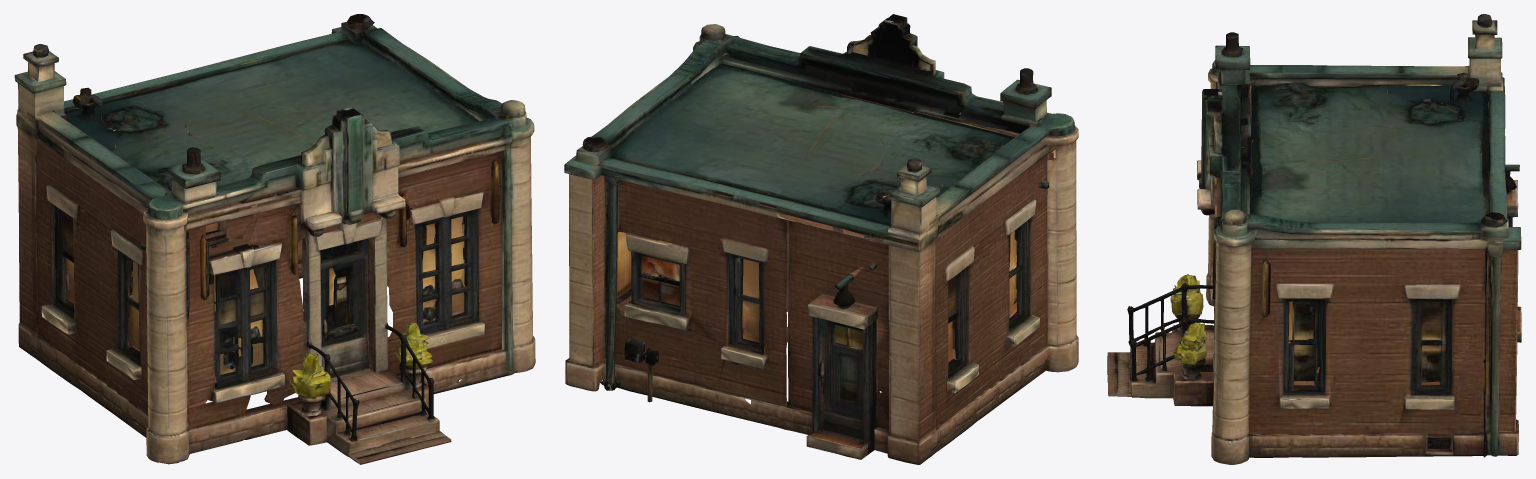
The model's file is candidate.glb.
The picture shows the model from 3 angles, left to right: view 1: azimuth 30°, elevation 25°; view 2: azimuth 150°, elevation 25°; view 3: azimuth 270°, elevation 25°; orthographic projection. The views are drawn at different scales.
Visible parts, largest first — view 1: expansion__villa_1__native_mobile; view 2: expansion__villa_1__native_mobile; view 3: expansion__villa_1__native_mobile.
Boxes of the visible parts, <box> form: expansion__villa_1__native_mobile: <box>14,14,535,464</box>; expansion__villa_1__native_mobile: <box>564,14,1078,464</box>; expansion__villa_1__native_mobile: <box>1107,14,1521,464</box>.
Size of the model in its own units: 1 by 0.7559 by 0.9846.
1 material, 1 textured.
